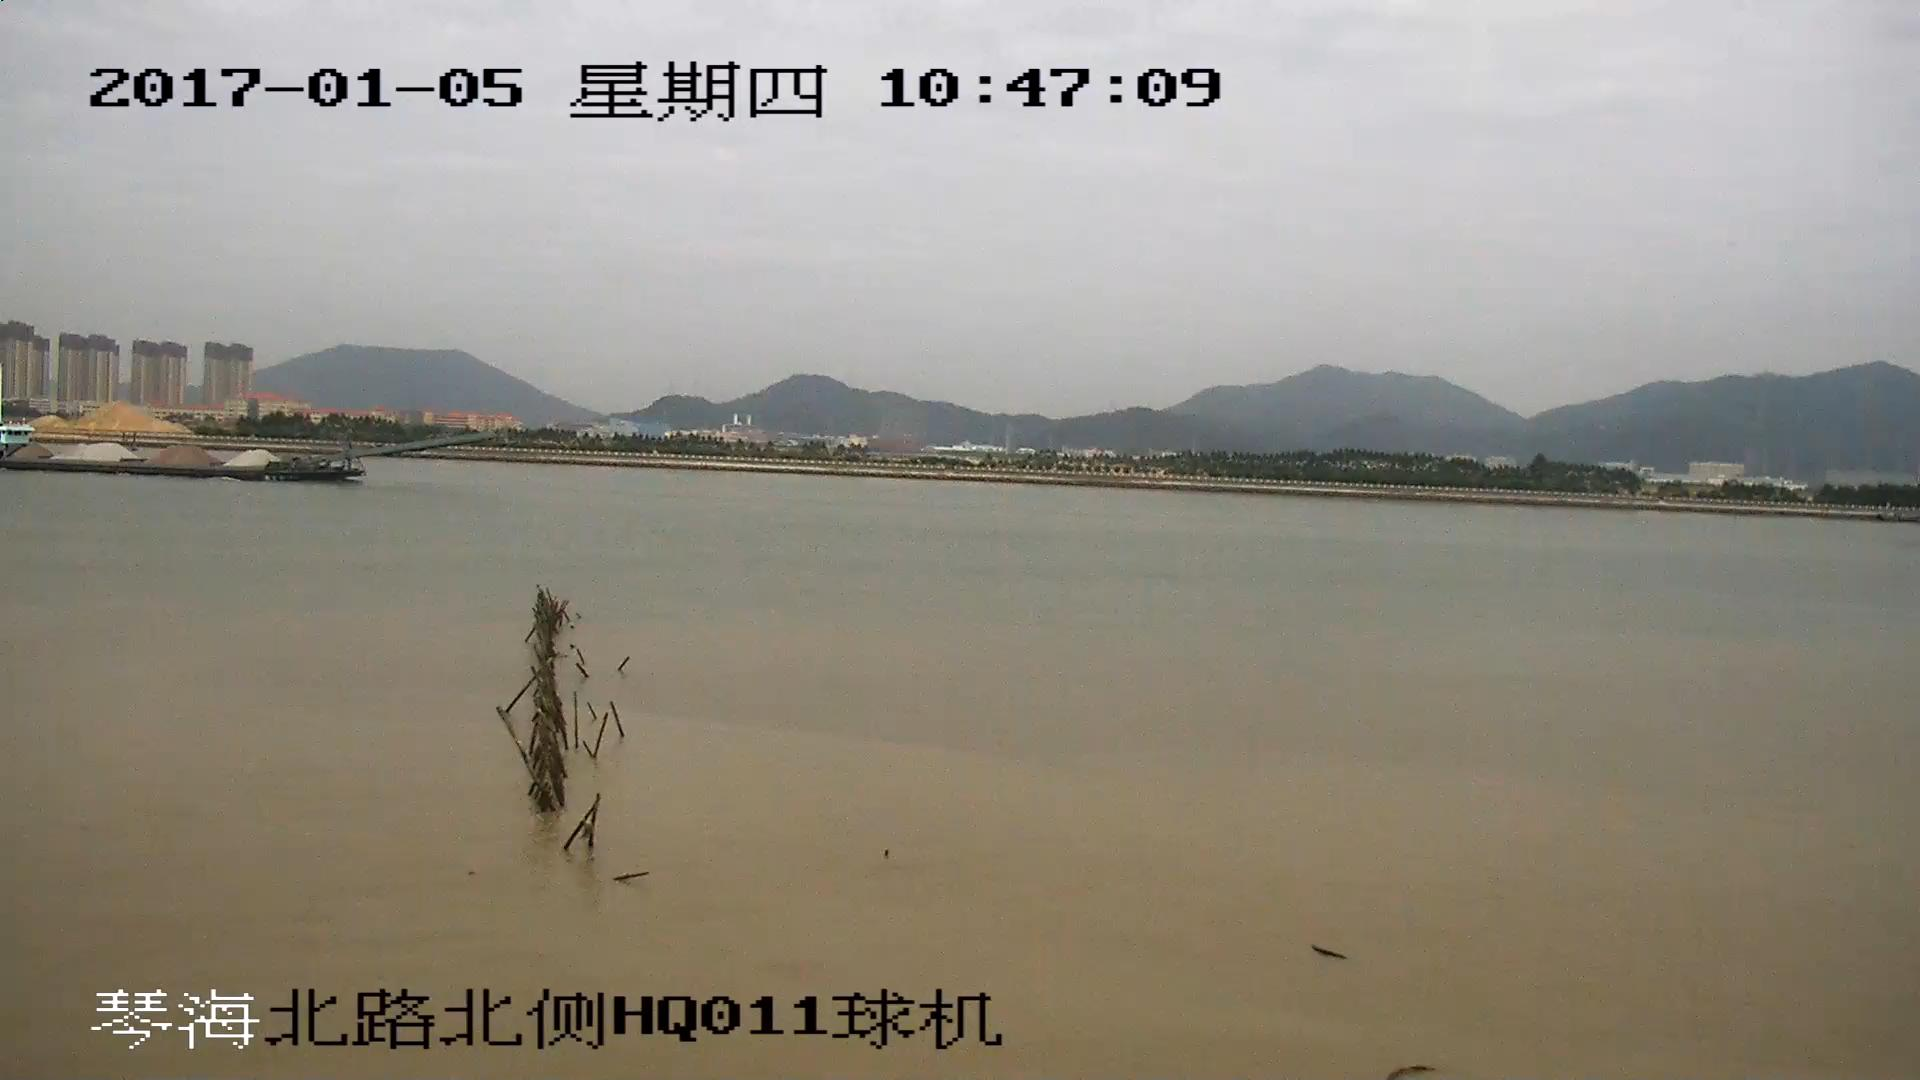ore carrier: (1, 434, 494, 483)
